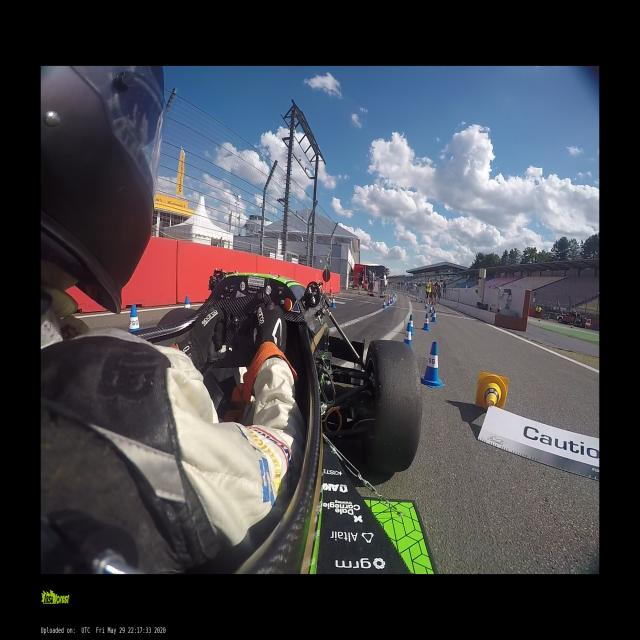blue_cone: (420, 342, 442, 386), (129, 305, 140, 331), (405, 313, 415, 337), (402, 322, 411, 348), (422, 314, 430, 331), (185, 296, 190, 310), (427, 303, 434, 313), (431, 310, 436, 322), (332, 297, 336, 308), (382, 300, 386, 308), (424, 301, 428, 309), (390, 297, 393, 303), (388, 298, 390, 306)
yellow_cone: (477, 371, 508, 417)
